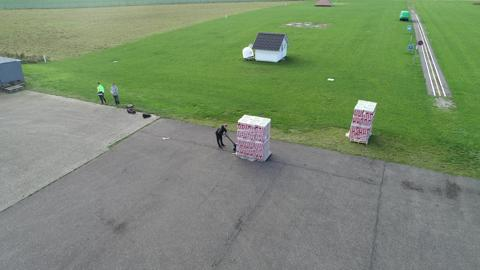RockwoolPallet: (236, 112, 272, 161)
